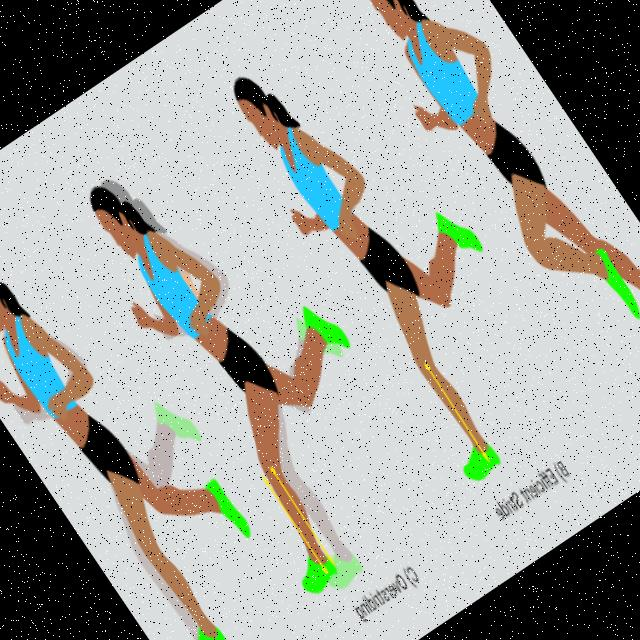Person: (52, 118, 458, 602), (211, 16, 592, 486), (0, 210, 304, 640), (333, 0, 640, 411)
